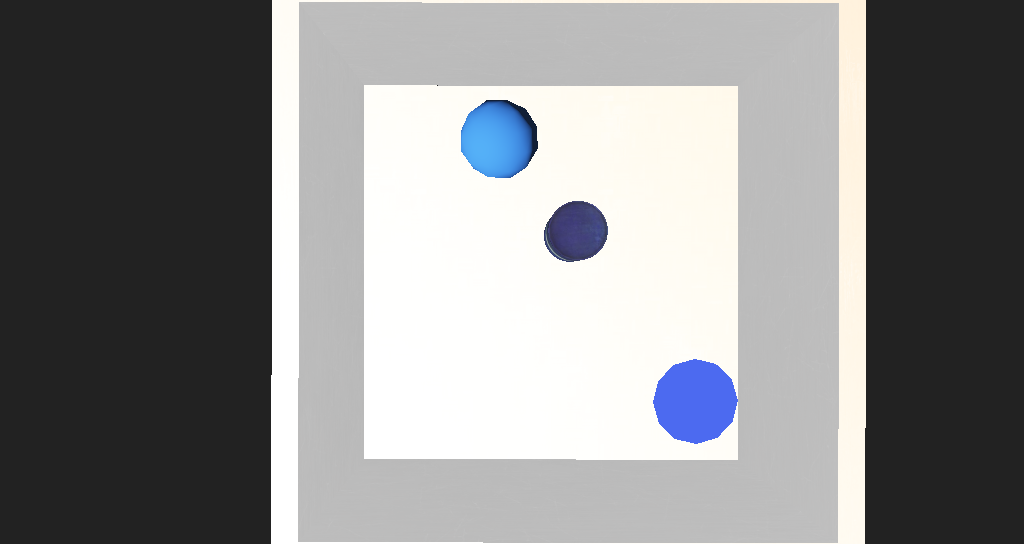cone: (502, 231, 549, 265)
cylinder: (576, 313, 650, 365)
sphere: (435, 174, 495, 217)
